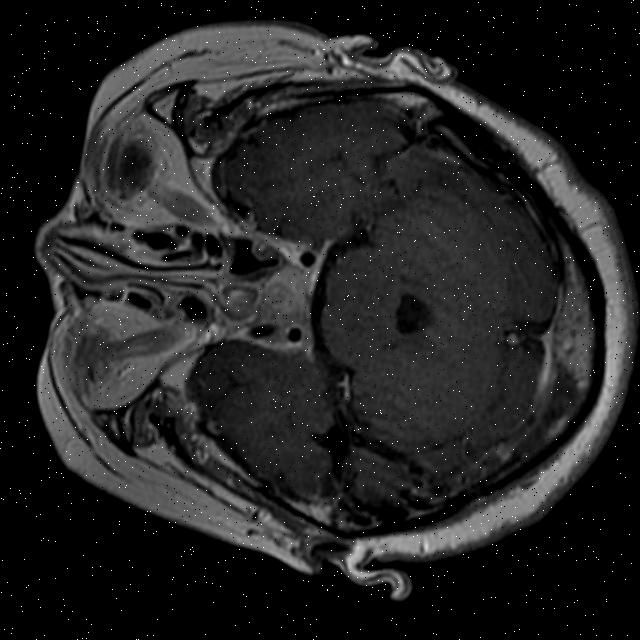Pituitary: (254, 257, 317, 327)
